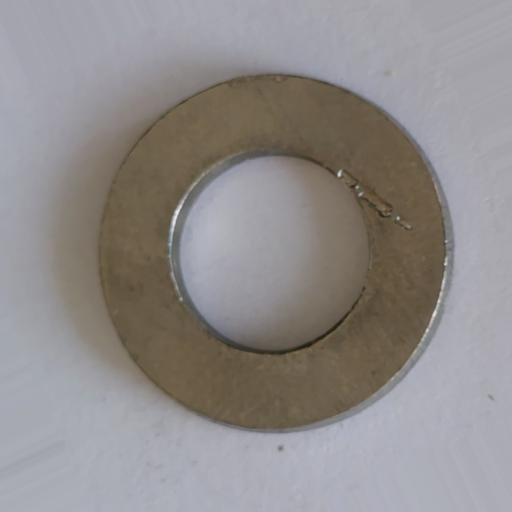scratch: (336, 167, 413, 232)
